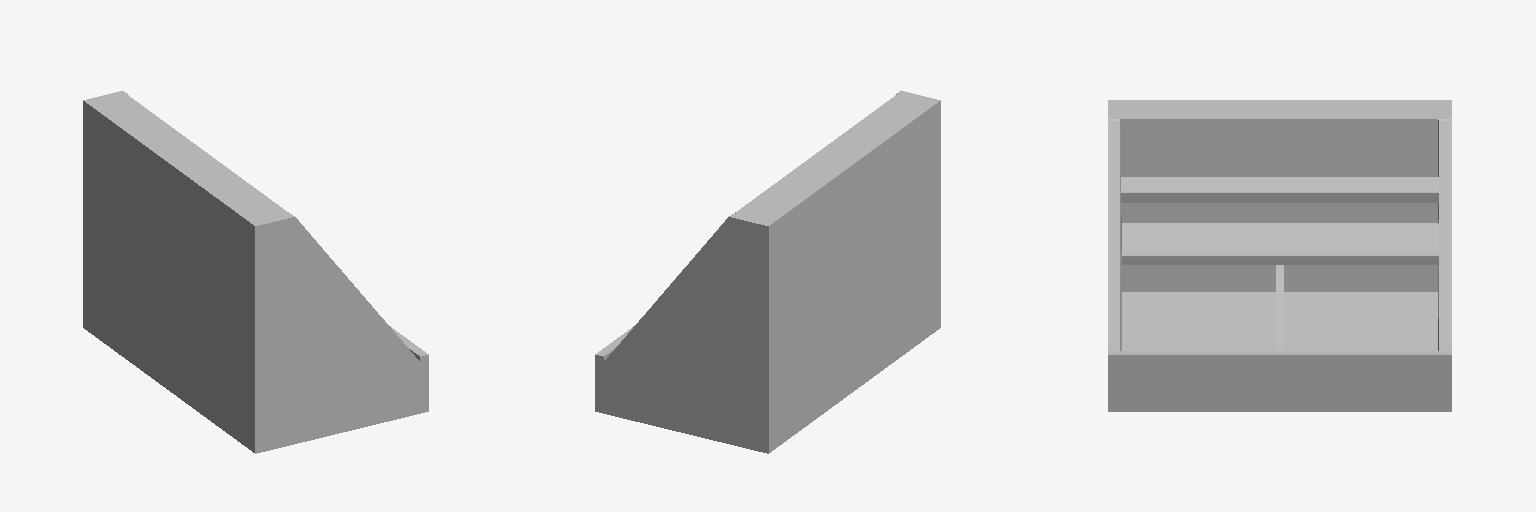
Rendered from exhibidor pan.obj.
The picture shows the model from 3 angles: view 1: azimuth 30°, elevation 25°; view 2: azimuth 150°, elevation 25°; view 3: azimuth 270°, elevation 25°; orthographic projection.
Visible parts, largest first — view 1: Base; view 2: Base; view 3: Base, Estante_bajo, Estante_alto, Separador.
Part boxes in pixels (left/top/right/bottom): Base: left=83, top=91, right=428, bottom=453; Base: left=595, top=91, right=940, bottom=453; Base: left=1108, top=100, right=1451, bottom=411; Estante_bajo: left=1122, top=223, right=1438, bottom=264; Estante_alto: left=1121, top=177, right=1438, bottom=202; Separador: left=1276, top=265, right=1283, bottom=350.
Bounding box in the file's own units: 6.89 × 8.63 × 11.85.